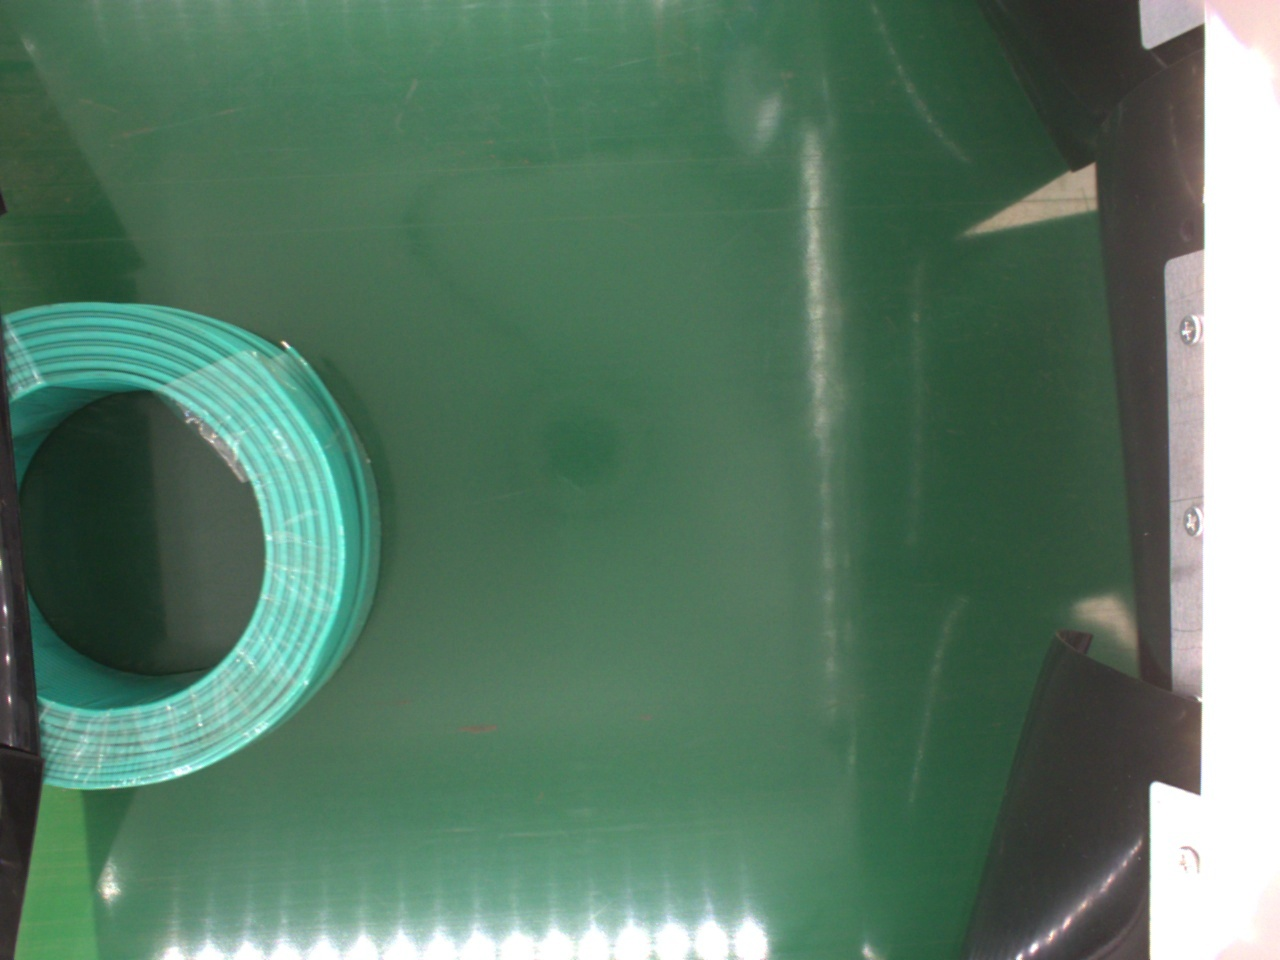green: (8, 298, 378, 793)
